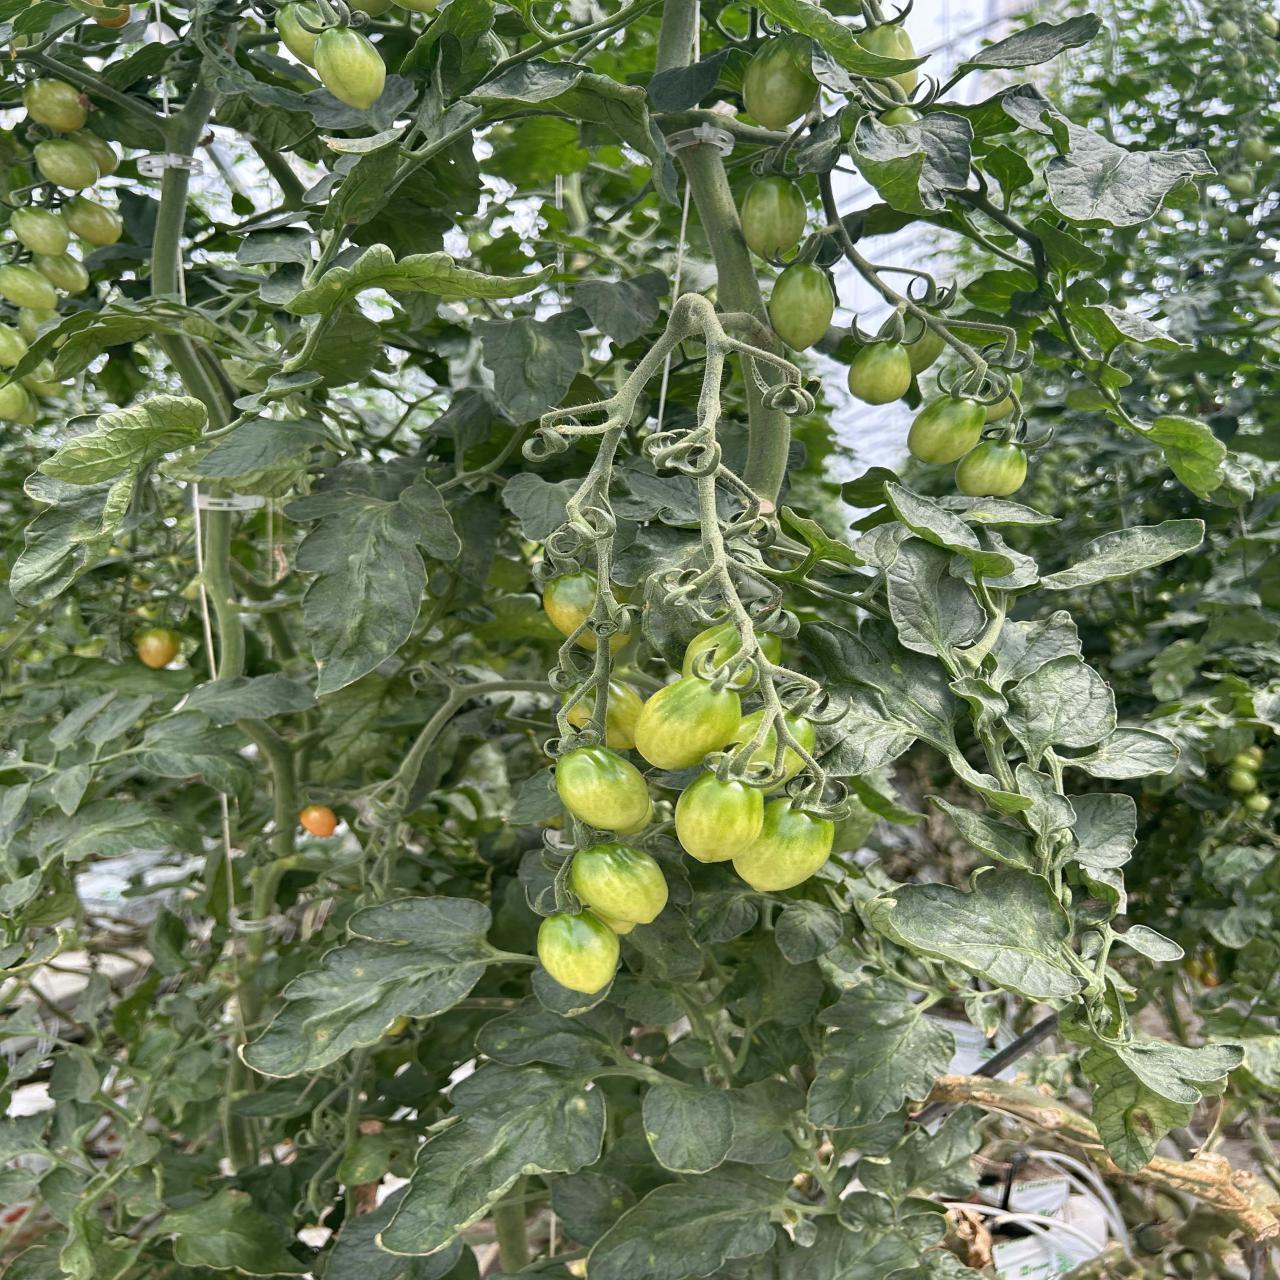Hoja: (244, 897, 529, 1077), (384, 1063, 605, 1254), (288, 467, 461, 694), (1060, 1002, 1244, 1173), (865, 866, 1089, 1000), (806, 976, 954, 1130), (587, 1164, 776, 1280), (1044, 121, 1212, 226), (40, 395, 207, 484), (850, 113, 973, 213), (474, 311, 585, 422), (885, 537, 986, 655), (1040, 519, 1204, 590), (1006, 656, 1116, 753), (960, 14, 1101, 74), (642, 1083, 733, 1172), (1063, 727, 1178, 779), (1070, 794, 1136, 869)
Pedunculo: (662, 98, 779, 349), (151, 68, 216, 302), (193, 486, 244, 680), (157, 332, 233, 430), (238, 719, 299, 836), (653, 0, 724, 96), (745, 368, 789, 498), (279, 838, 294, 856)
Tomate: (313, 28, 386, 109), (25, 79, 89, 132), (34, 139, 100, 190), (61, 196, 122, 246), (11, 209, 70, 257), (0, 265, 57, 309), (275, 5, 318, 64), (34, 253, 89, 294), (72, 130, 117, 176), (21, 359, 64, 397), (0, 383, 36, 424), (16, 307, 59, 342), (0, 324, 28, 369)
Tomate Rugoso: (635, 675, 742, 769), (734, 798, 835, 891), (568, 843, 668, 934), (556, 747, 652, 833), (675, 772, 764, 863), (743, 34, 818, 130), (537, 911, 619, 994), (768, 263, 833, 352), (740, 177, 806, 259), (907, 396, 986, 464), (955, 440, 1028, 497), (847, 341, 912, 404), (859, 25, 914, 60), (897, 67, 918, 96)
